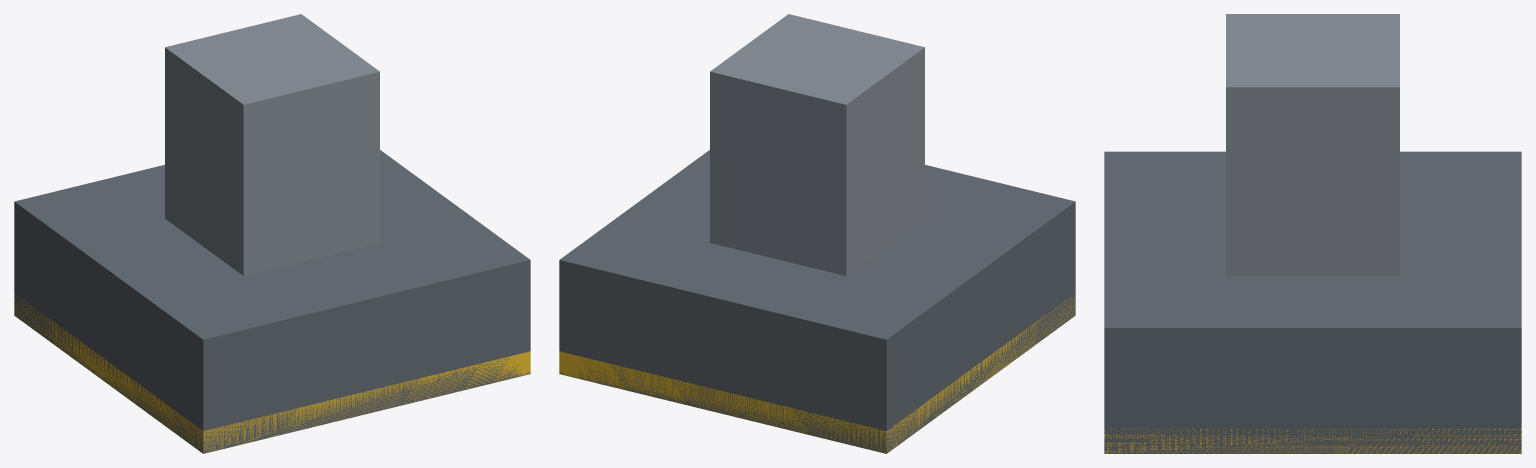
Rendered from pillar.glb.
3 views of the same model, side by side, from view 1: azimuth 30°, elevation 25°; view 2: azimuth 150°, elevation 25°; view 3: azimuth 270°, elevation 25° (orthographic). The views are drawn at different scales.
Parts seen in each view (by area): view 1: col_PillarFoot, col_PillarShaft, PillarFoot_LOD0, PillarShaft_LOD0; view 2: col_PillarFoot, col_PillarShaft, PillarFoot_LOD0, PillarShaft_LOD0; view 3: col_PillarFoot, col_PillarShaft, PillarShaft_LOD0, PillarFoot_LOD0.
Part boxes in pixels (x1=…): col_PillarFoot: x1=14, y1=150, x2=530, y2=453; col_PillarShaft: x1=165, y1=14, x2=379, y2=275; PillarFoot_LOD0: x1=14, y1=245, x2=530, y2=453; PillarShaft_LOD0: x1=196, y1=27, x2=346, y2=91; col_PillarFoot: x1=559, y1=150, x2=1075, y2=453; col_PillarShaft: x1=710, y1=14, x2=924, y2=275; PillarFoot_LOD0: x1=559, y1=258, x2=1075, y2=453; PillarShaft_LOD0: x1=742, y1=27, x2=893, y2=91; col_PillarFoot: x1=1104, y1=151, x2=1521, y2=453; col_PillarShaft: x1=1226, y1=14, x2=1399, y2=276; PillarShaft_LOD0: x1=1226, y1=14, x2=1399, y2=86; PillarFoot_LOD0: x1=1104, y1=237, x2=1521, y2=453.
Size of the model in its own units: 1.2 by 1 by 1.2.
